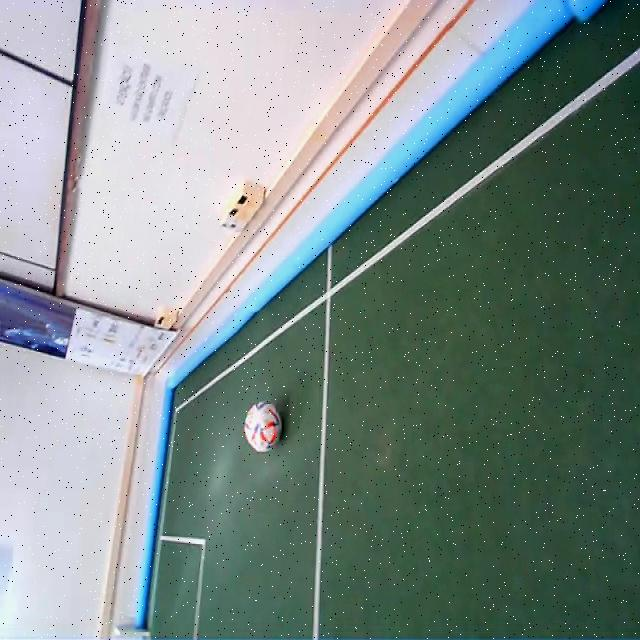ball: (245, 402, 281, 452)
